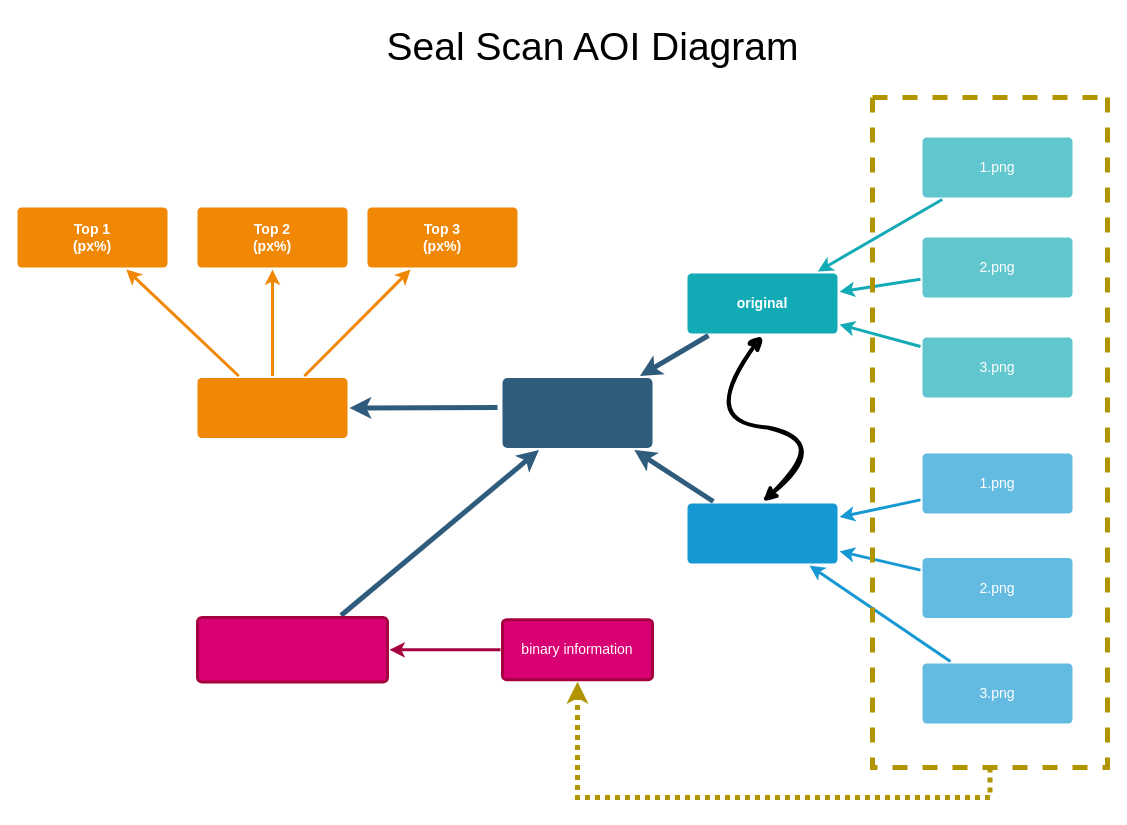
The diagram is 1127 pixels wide and 825 high, and some of its shapes have lost their labels. The shapes that lost their labels are listed below. From the top down, each one's box as (x1, y1, x2, y2) in pixels, then its label:
(197, 378, 347, 438): Similarity (px%)
(502, 378, 652, 448): GUI System
(687, 503, 837, 563): black_white
(196, 616, 388, 683): file_category_mapping.pkl
